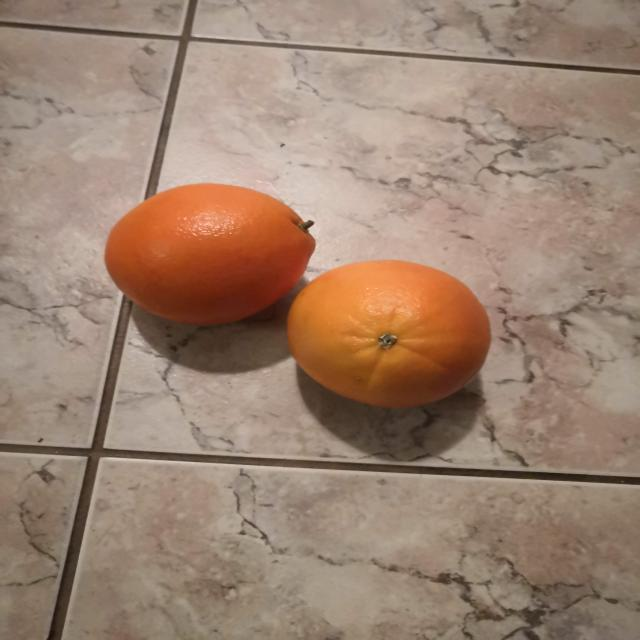orange: (287, 260, 490, 408), (105, 184, 315, 325)
